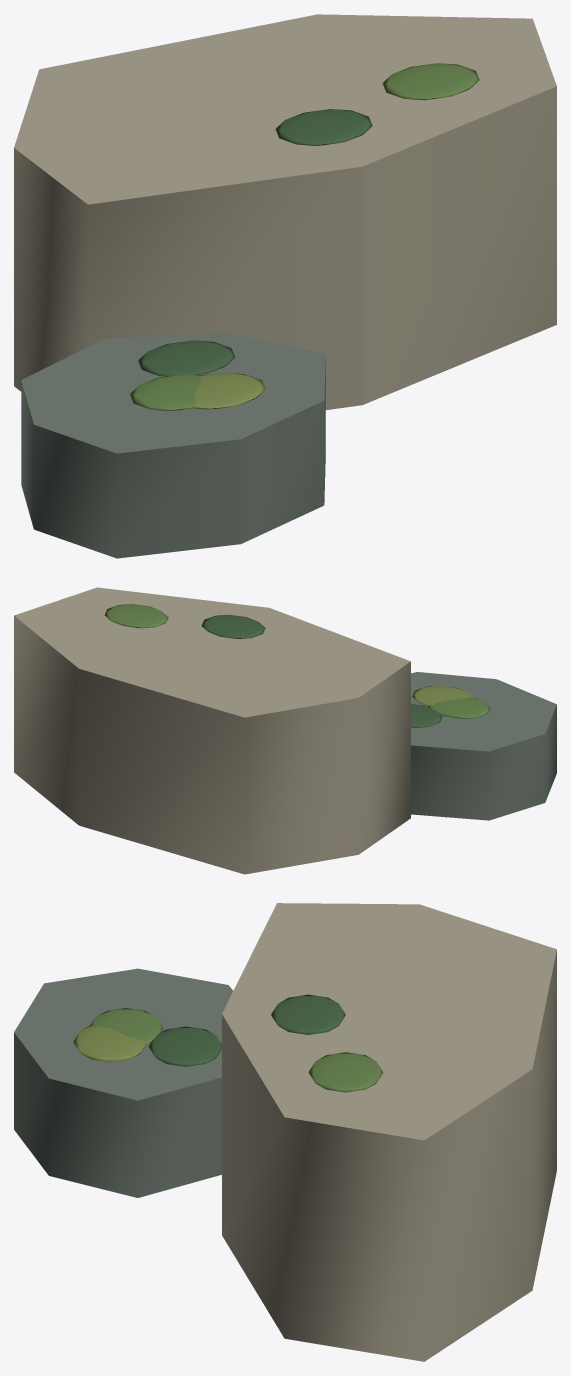
3 views of the same model, one above another, from view 1: azimuth 30°, elevation 25°; view 2: azimuth 150°, elevation 25°; view 3: azimuth 270°, elevation 25° (orthographic). The views are drawn at different scales.
Parts seen in each view (by area): view 1: climb-rocks-10-0, climb-rocks-10-1, 바위 11; view 2: climb-rocks-10-0, climb-rocks-10-1, 바위 11; view 3: climb-rocks-10-0, climb-rocks-10-1, 바위 11.
Part boxes in pixels (left/top/right/bottom): climb-rocks-10-0: left=14, top=14, right=556, bottom=410; climb-rocks-10-1: left=21, top=332, right=325, bottom=558; 바위 11: left=129, top=63, right=479, bottom=410; climb-rocks-10-0: left=14, top=587, right=410, bottom=874; climb-rocks-10-1: left=411, top=672, right=556, bottom=820; 바위 11: left=104, top=604, right=490, bottom=727; climb-rocks-10-0: left=222, top=903, right=556, bottom=1361; climb-rocks-10-1: left=14, top=968, right=232, bottom=1197; 바위 11: left=73, top=994, right=383, bottom=1092.
Size of the model in its own units: 3.36 by 1.2 by 2.6.
